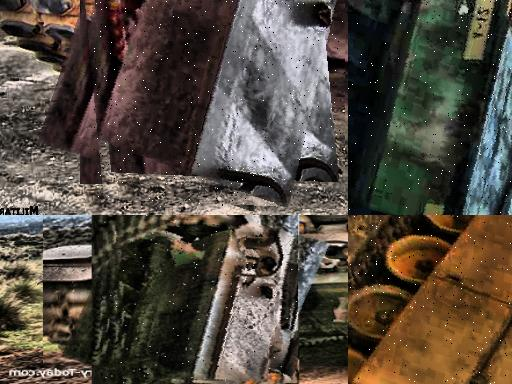tanks: (93, 1, 333, 208), (349, 1, 512, 216), (105, 216, 298, 384), (349, 216, 512, 384)
